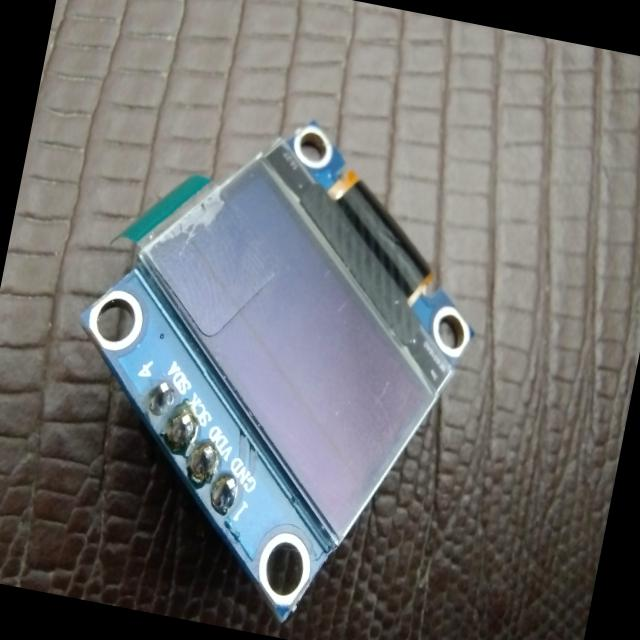oled: (28, 69, 526, 640)
